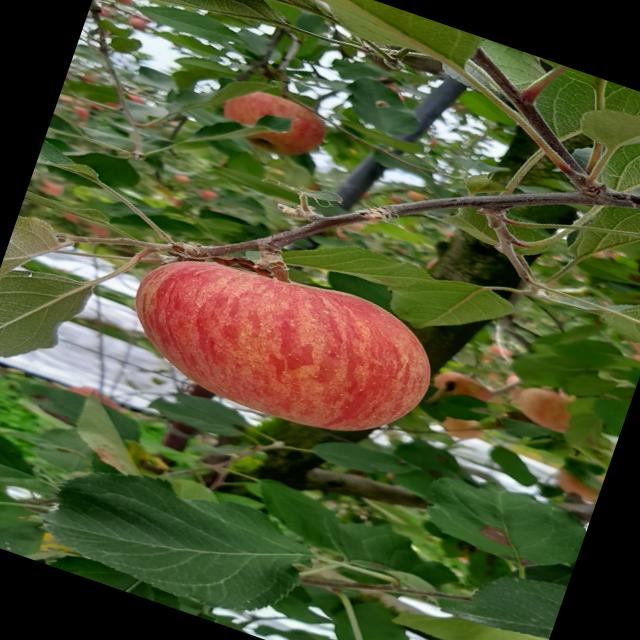fresh: (96, 214, 470, 474)
